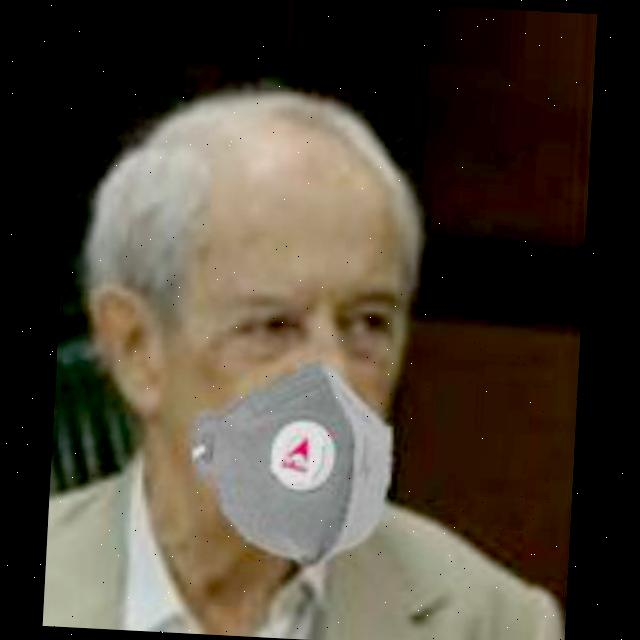suspicion: (106, 113, 464, 523)
